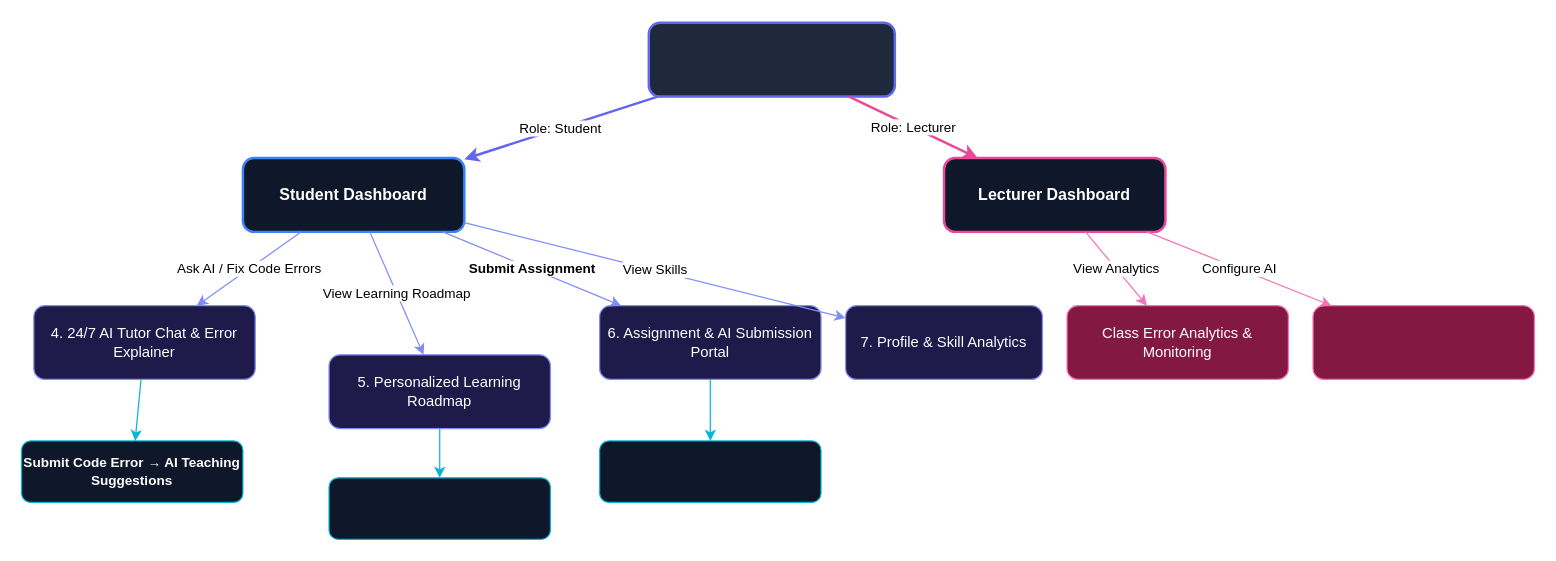
Image size: 1556x561. Some labels were removed from this diagram. Each missing label, with the centre of its shape:
"6.1 Upload ZIP + SHA-256 + AI Feedback" belongs at (x=709, y=471).
"Login / Authentication Portal" belongs at (x=771, y=59).
"Manage AI Prompts & Roadmap Rules" belongs at (x=1423, y=341).
"Topic Node Details & Practice" belongs at (x=439, y=508).
